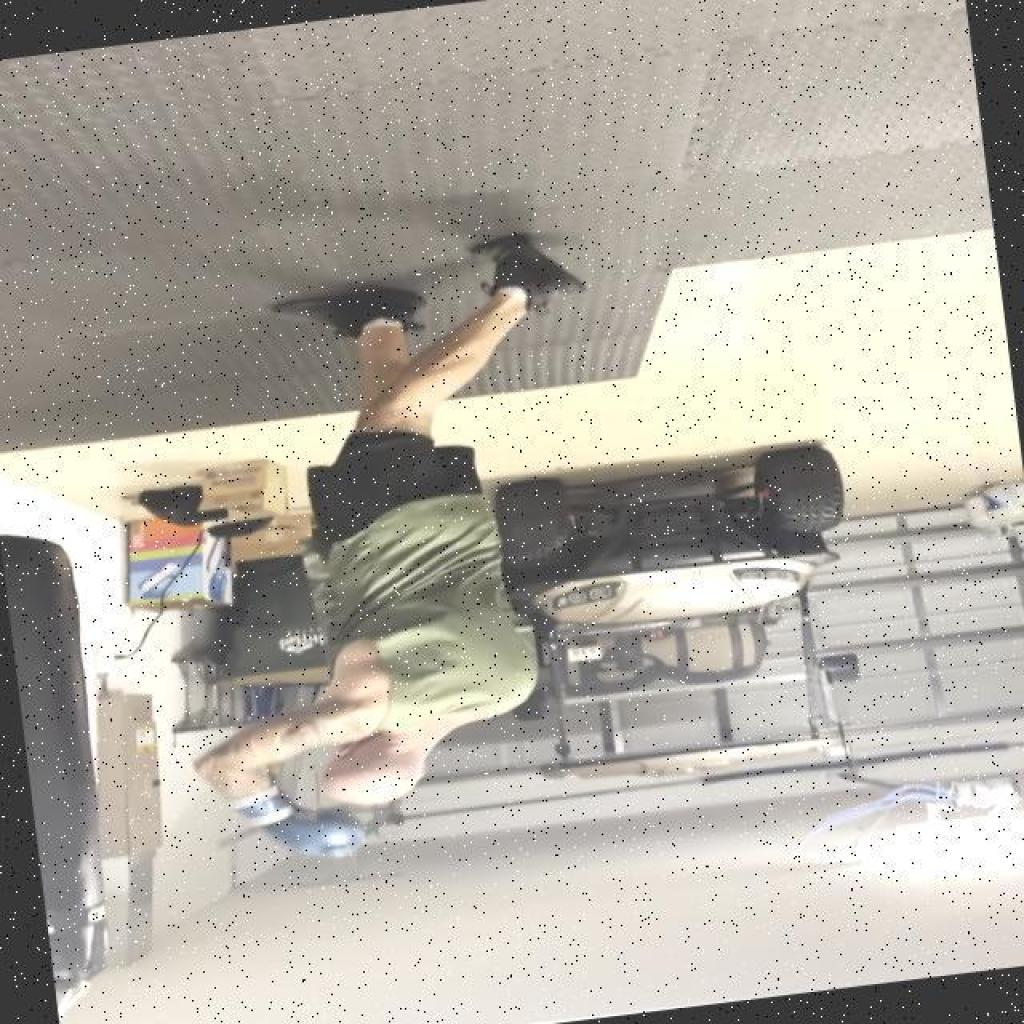bag: (0, 507, 125, 1013)
uppercut: (173, 579, 584, 890)
